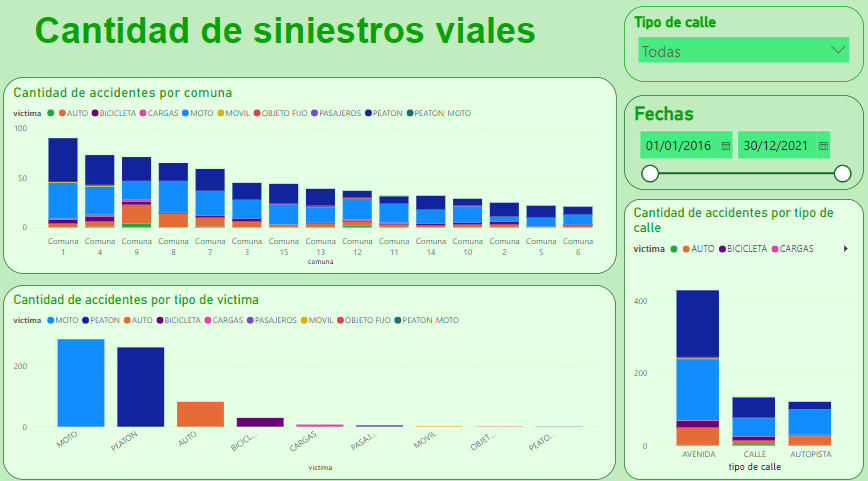

The dashboard page shown, as its layout file describes it:
{"tool":"powerbi","page":{"name":"Estadisticas de Accidentes","canvas":[1280,720],"ordinal":2},"visuals":[{"type":"columnChart","title":"Cantidad de accidentes por tipo de calle","fields":{"Y":["CountNonNull(hechos.ID)"],"Category":["hechos.tipo de calle"],"Series":["hechos.victima"]},"box":[919,298.5,351.2,411.2],"z":0},{"type":"columnChart","title":"Cantidad de accidentes por tipo de victima","fields":{"Category":["hechos.victima"],"Y":["CountNonNull(hechos.ID)"],"Series":["hechos.victima"]},"box":[10.2,424.4,897.1,285.4],"z":1000},{"type":"columnChart","title":"Cantidad de accidentes por comuna","fields":{"Category":["hechos.comuna"],"Y":["CountNonNull(hechos.ID)"],"Series":["hechos.victima"]},"box":[10.5,119.5,897.6,288.3],"z":2000},{"type":"textbox","box":[35.1,16.1,777.1,87.8],"z":3000},{"type":"slicer","title":"Fechas","fields":{"Values":["hechos.fecha"]},"box":[919,146.3,351.2,139],"z":4000},{"type":"slicer","title":"Tipo de calle","fields":{"Values":["hechos.tipo de calle"]},"box":[919,16.1,351.2,111.2],"z":5000}]}

Visuals, with their boxes in screenshot pixels (x1, y1, x2, y2), scaled from the page's 1280x720 canvas onto the 868x481 screenshot:
"Cantidad de accidentes por tipo de calle" columnChart: 623:199:861:474
"Cantidad de accidentes por tipo de victima" columnChart: 7:284:615:474
"Cantidad de accidentes por comuna" columnChart: 7:80:616:272
textbox: 24:11:551:69
"Fechas" slicer: 623:98:861:191
"Tipo de calle" slicer: 623:11:861:85
